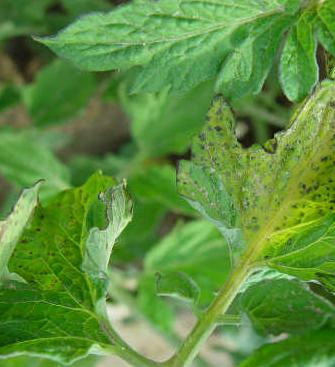Tomato leaf bacterial spot: (175, 54, 335, 298), (34, 0, 335, 119), (0, 136, 150, 367)
